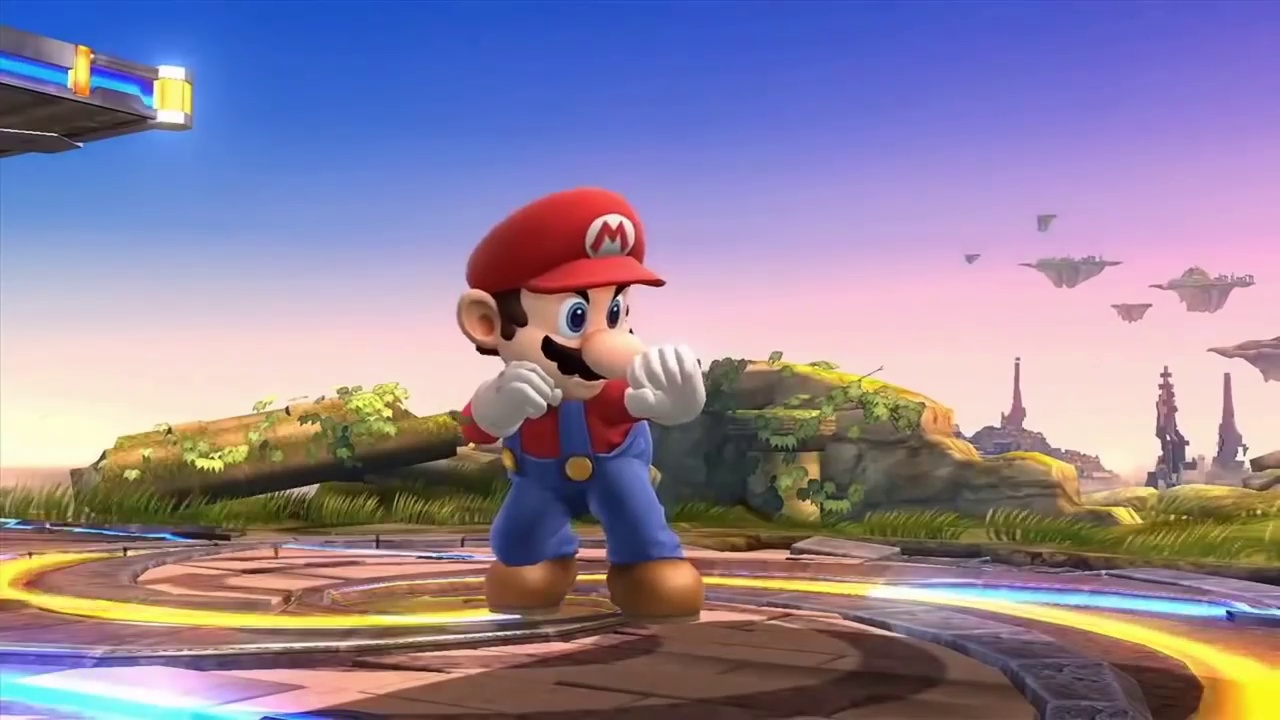Mario: (456, 188, 706, 621)
